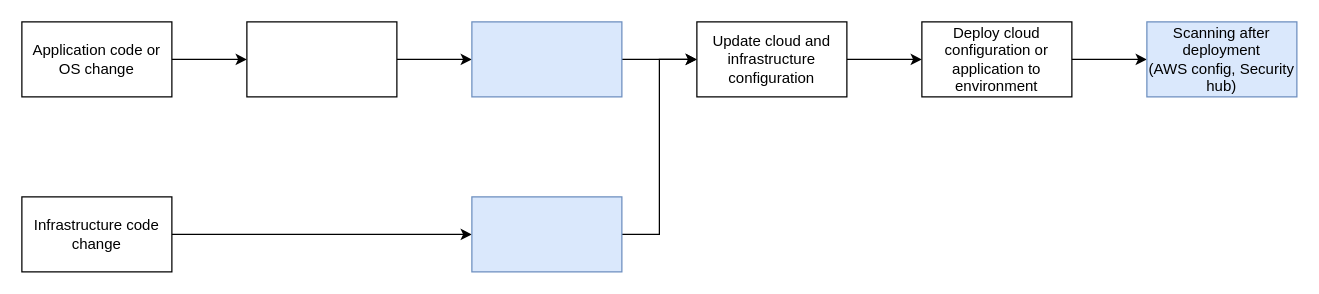
Some shapes in this 1319 by 294 pixel diagram are drawn without their labels. The box of each missing label's shape, as (x1, y1, x2, y2) in pixels:
Build application container or OS image: (246, 21, 397, 97)
Container or image scanning (Ex: Docker Scout): (471, 21, 622, 97)
Infrastructure as code scanning (Ex: Terrascan): (471, 196, 622, 272)
